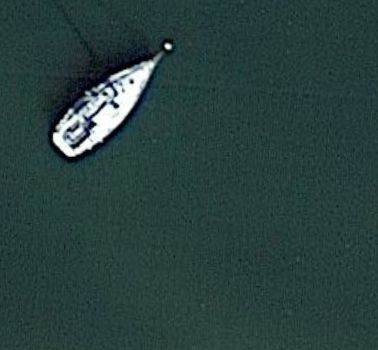boat: (49, 42, 171, 161)
